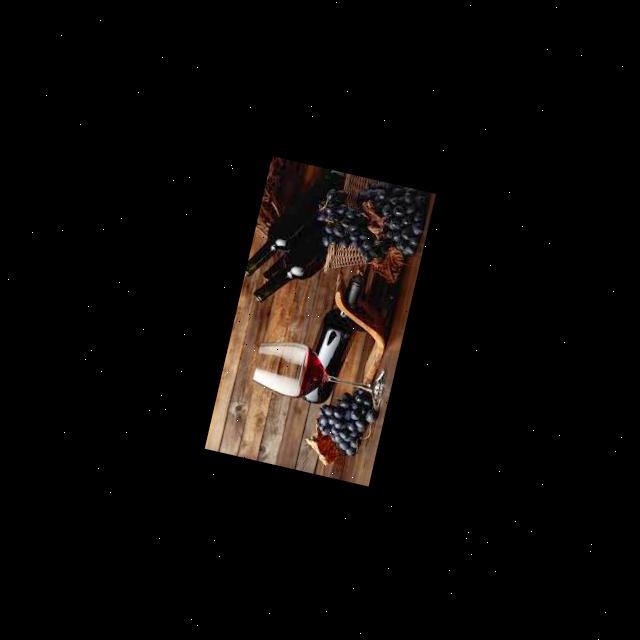grape: (308, 380, 381, 459)
